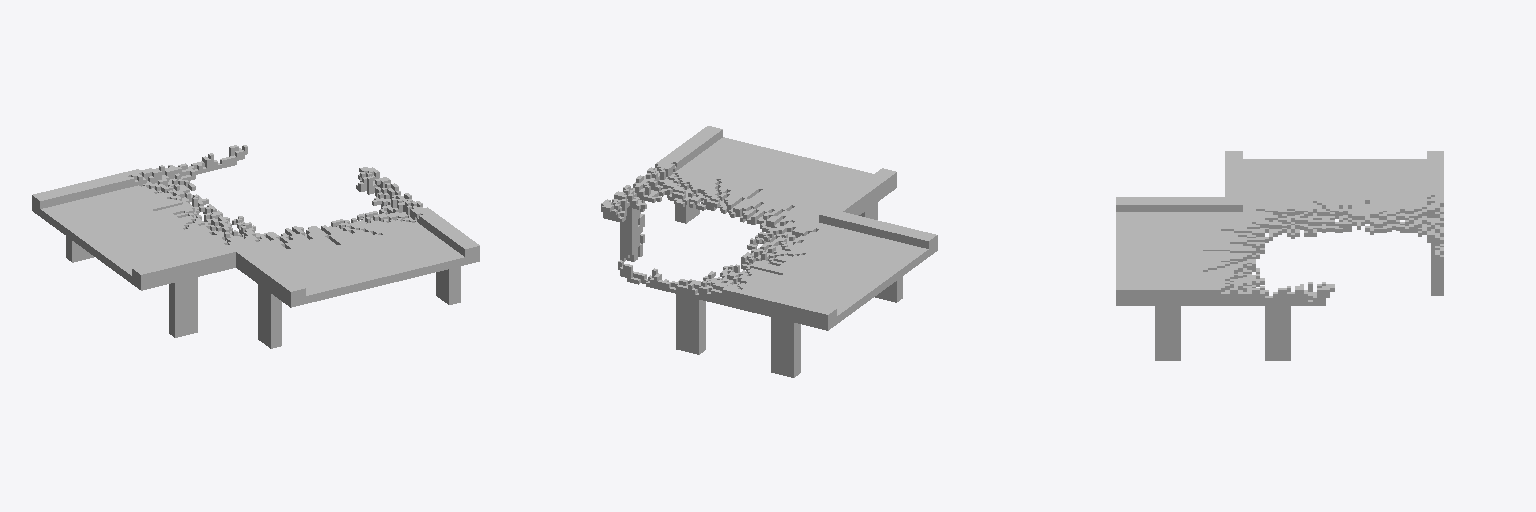
Rendered from Sinkhole_Rotate_road.obj.
3 views of the same model, side by side, from view 1: azimuth 30°, elevation 25°; view 2: azimuth 150°, elevation 25°; view 3: azimuth 270°, elevation 25° (orthographic).
Visible parts, largest first — view 1: Sinkhole_Rotate_road; view 2: Sinkhole_Rotate_road; view 3: Sinkhole_Rotate_road.
Part boxes in pixels (bbox=[...]): Sinkhole_Rotate_road: bbox=[32, 145, 479, 348]; Sinkhole_Rotate_road: bbox=[601, 126, 937, 377]; Sinkhole_Rotate_road: bbox=[1116, 151, 1443, 360].
Size of the model in its own units: 75 by 18 by 75.